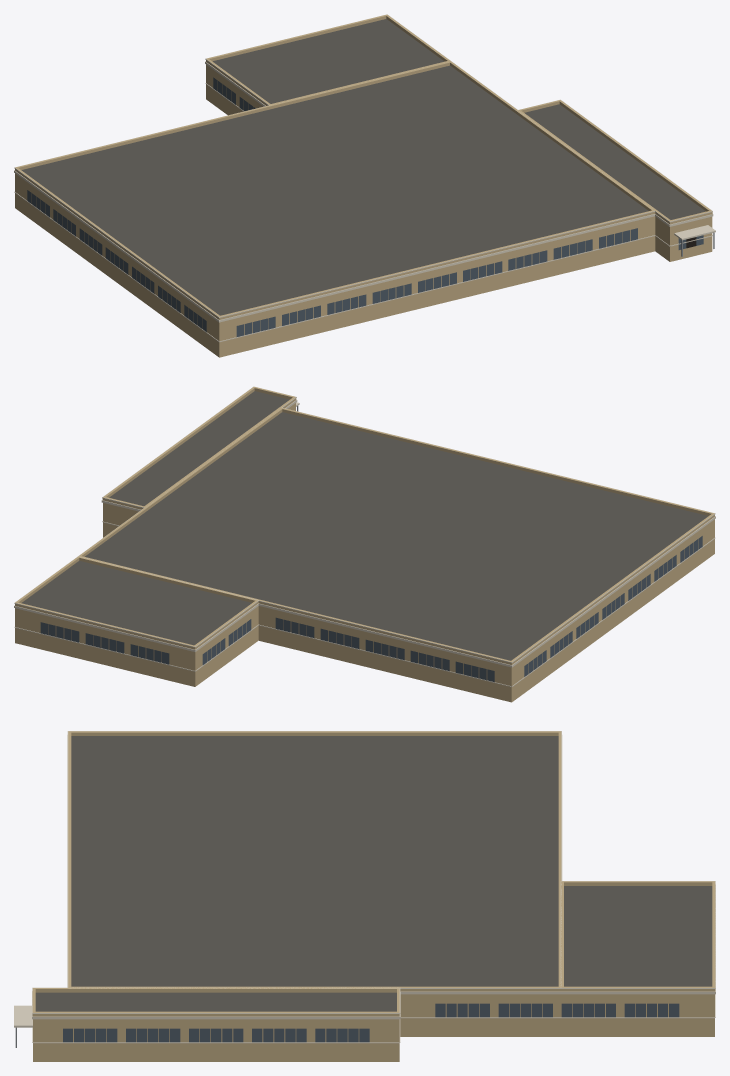
File: rockefeller-school.glb
The picture shows the model from 3 angles, top to bottom: view 1: azimuth 30°, elevation 25°; view 2: azimuth 150°, elevation 25°; view 3: azimuth 270°, elevation 25°; orthographic projection. The views are drawn at different scales.
Visible parts, largest first — view 1: rockefeller_school; view 2: rockefeller_school; view 3: rockefeller_school.
Part boxes in pixels (box(x1,y1,x2,y2)): rockefeller_school: box(14, 14, 715, 357); rockefeller_school: box(14, 386, 715, 702); rockefeller_school: box(14, 731, 715, 1061).
Size of the model in its own units: 84.74 by 6.85 by 89.02.
